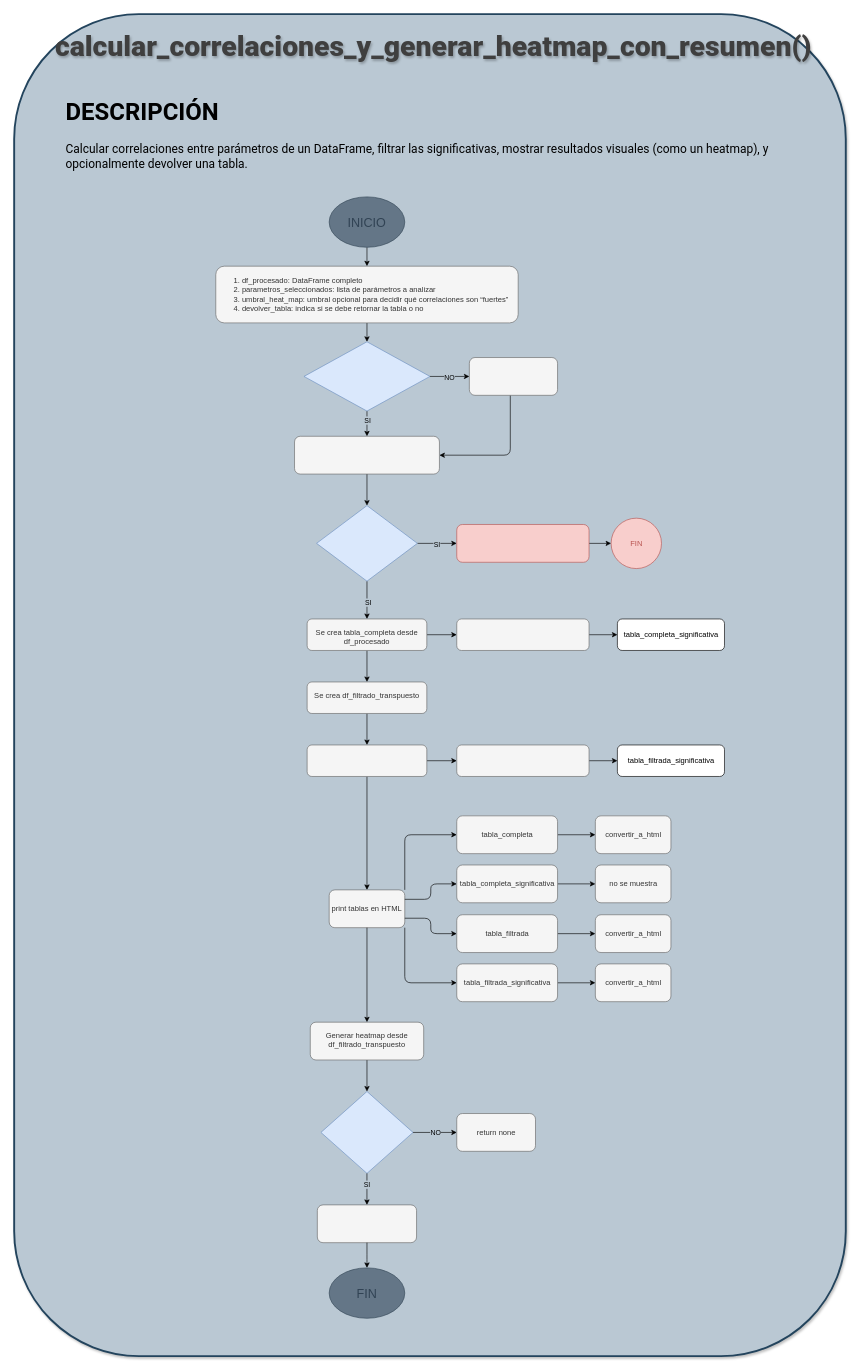
This 861x1372 diagram has some shape labels left out. Each missing label, with the centre of its shape:
"Error: parámetros seleccionados no están en df_procesado" goes at [522,543].
"Filtrar correlaciones significativas (tabla_completa) por umbral" goes at [522,634].
"Filtrar correlaciones significativas (tabla_filtrada) por umbral" goes at [522,760].
"función (solicitar_umbral) valor por defecto (0.7)" goes at [513,376].
"parametros no encontrados no está vacio?" goes at [366,543].
"return Tabla_completa" goes at [367,1223].
"Se crea tabla_filtrada desde df_filtrado_transpuesto" goes at [366,760].
"Validar si todos los parámetros seleccionados existen en df_procesado" goes at [366,455].
"¿devolver_tabla=True?" goes at [366,1132].
"¿umbral_heat_map fue proporcionado?" goes at [366,376].
